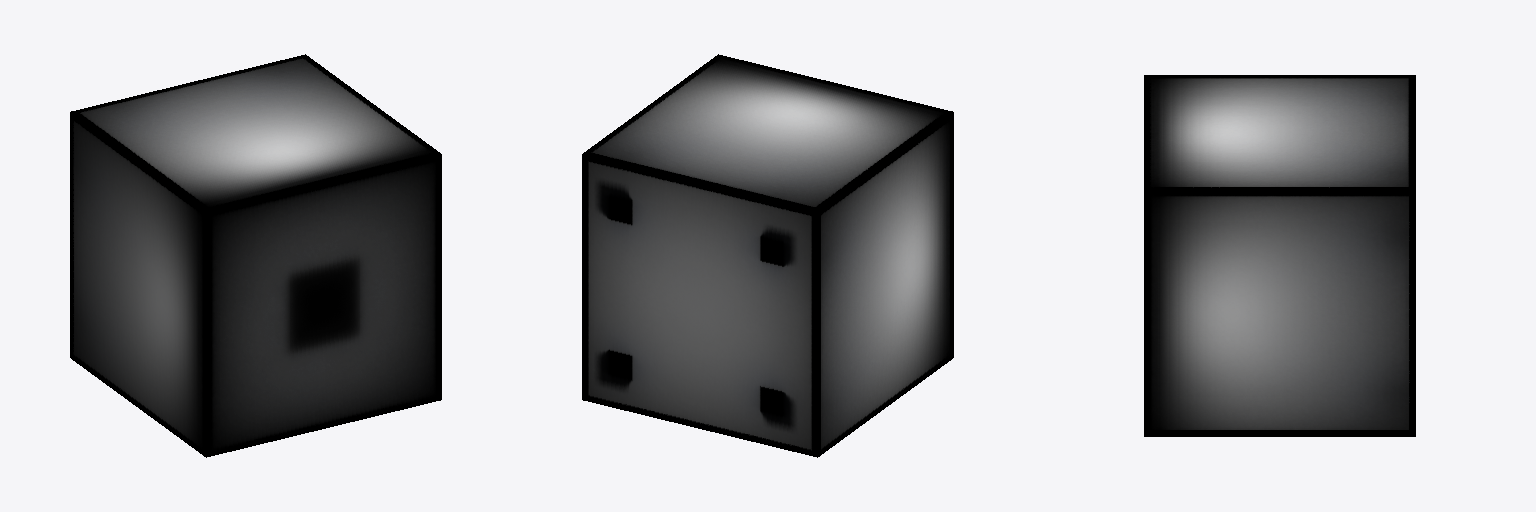
3 views of the same model, side by side, from view 1: azimuth 30°, elevation 25°; view 2: azimuth 150°, elevation 25°; view 3: azimuth 270°, elevation 25° (orthographic).
Visible parts, largest first — view 1: Box02, Box04, Box05, Box03, Box01; view 2: Box01, Box04, Box05, Box02, Box03; view 3: Box03, Box05, Box06, Box01, Box02, Box04.
Part boxes in pixels (bbox=[...]): Box02: bbox=[203, 152, 441, 457]; Box04: bbox=[70, 113, 211, 456]; Box05: bbox=[70, 54, 440, 216]; Box03: bbox=[301, 55, 441, 400]; Box01: bbox=[70, 56, 304, 360]; Box01: bbox=[582, 153, 820, 457]; Box04: bbox=[812, 112, 953, 456]; Box05: bbox=[582, 55, 953, 216]; Box02: bbox=[718, 55, 953, 360]; Box03: bbox=[582, 54, 722, 400]; Box03: bbox=[1144, 187, 1415, 429]; Box05: bbox=[1144, 75, 1415, 195]; Box06: bbox=[1144, 430, 1415, 436]; Box01: bbox=[1409, 75, 1415, 429]; Box02: bbox=[1144, 75, 1150, 429]; Box04: bbox=[1144, 75, 1415, 77].
Size of the model in its own units: 20.02 by 20 by 20.
10 materials, 10 textured.